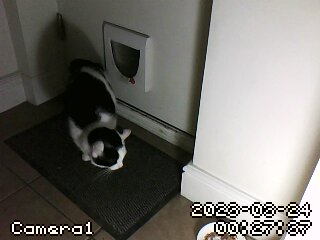bad: (54, 63, 136, 173)
